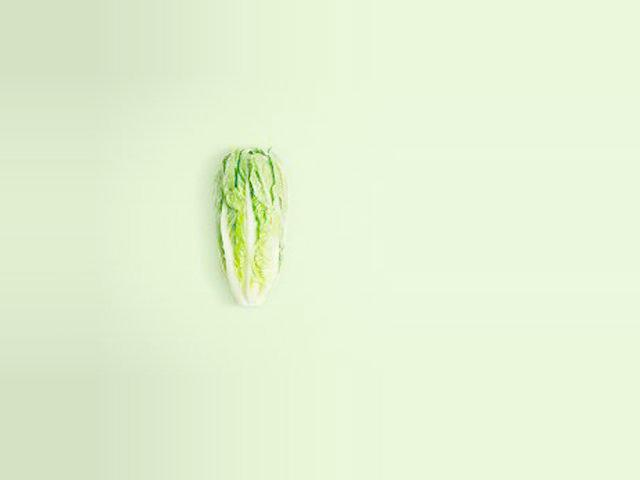lettuce: (175, 138, 299, 331)
